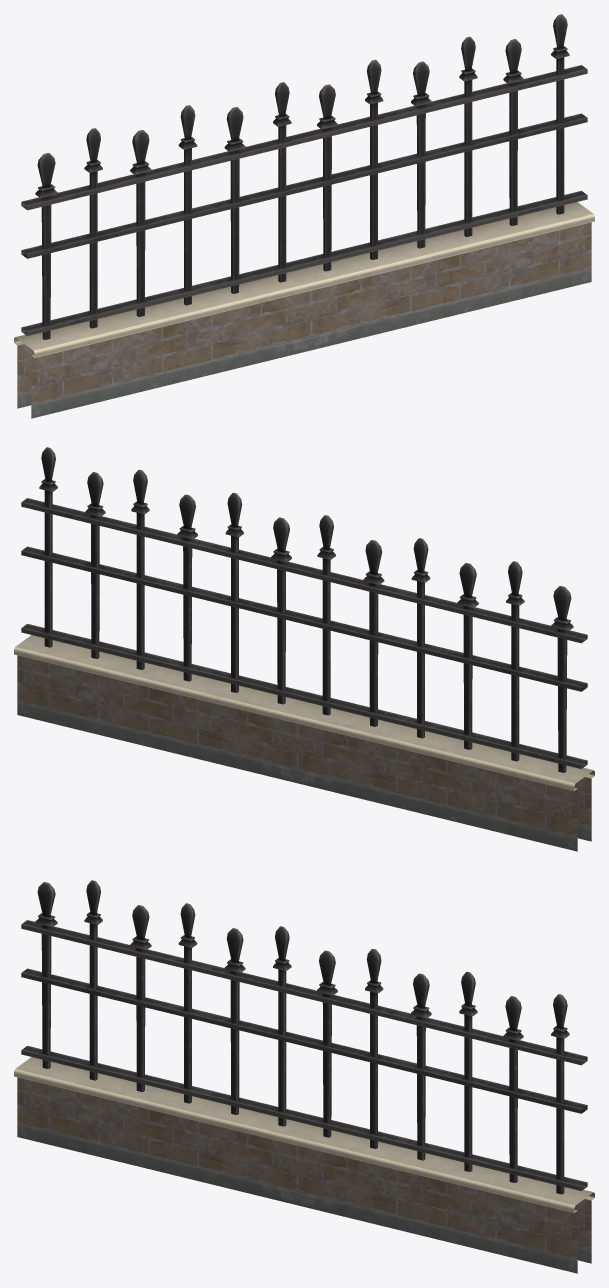
File: StreetFence02_B3.FBX
3 views of the same model, one above another, from view 1: azimuth 30°, elevation 25°; view 2: azimuth 150°, elevation 25°; view 3: azimuth 330°, elevation 25° (orthographic).
Parts seen in each view (by area): view 1: StreetFence02_B3; view 2: StreetFence02_B3; view 3: StreetFence02_B3.
Boxes of the visible parts, x1,y1,x2,y2 form: StreetFence02_B3: (14,14,594,418); StreetFence02_B3: (14,447,594,851); StreetFence02_B3: (14,880,594,1273).
Size of what is drawn, in the model's own units: 4.2 by 1.92 by 0.2685.
